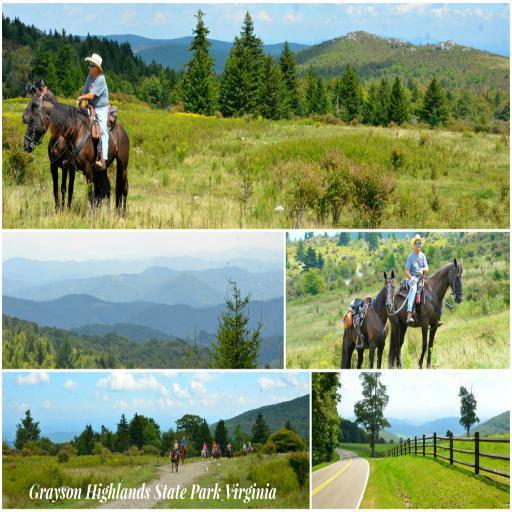horse: (22, 90, 130, 218), (20, 76, 112, 216), (388, 256, 464, 367), (340, 270, 396, 370), (166, 446, 182, 470), (178, 442, 188, 466), (213, 448, 222, 464), (200, 447, 208, 462)
